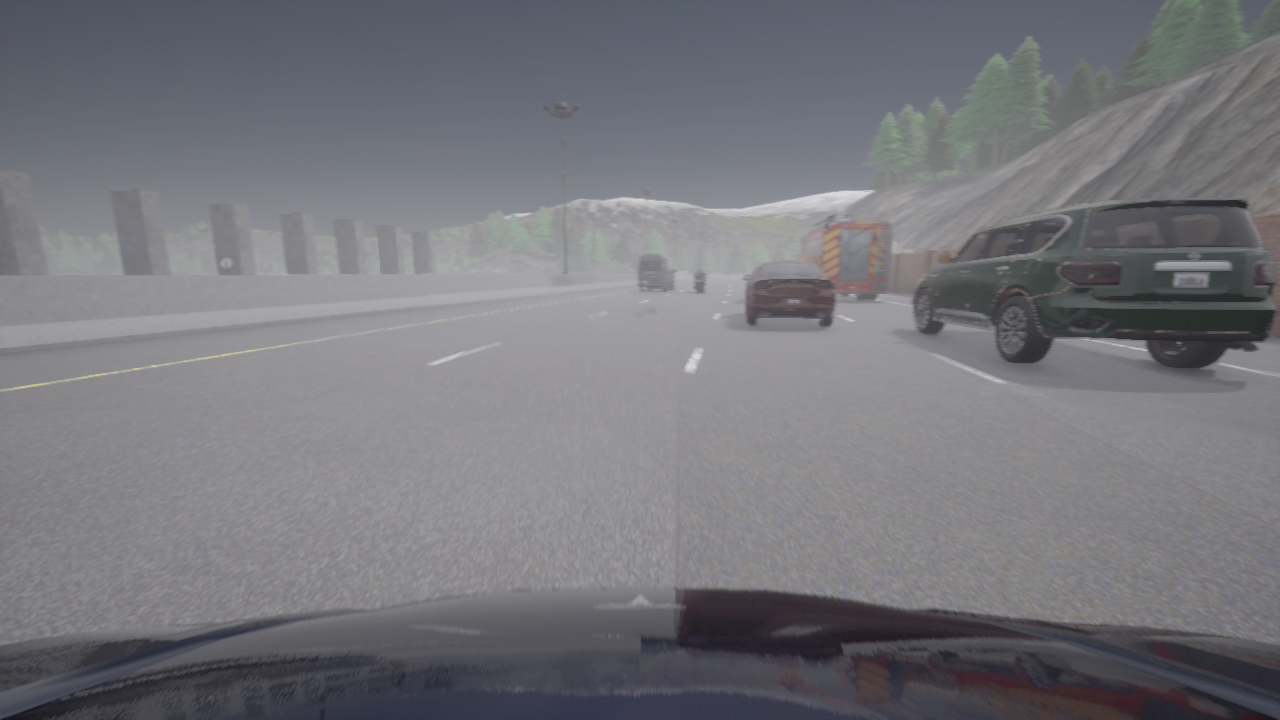cyclist: (0, 588, 1279, 719), (912, 198, 1277, 369), (791, 211, 891, 300), (744, 261, 834, 326), (637, 254, 675, 291), (747, 267, 758, 286), (696, 274, 706, 292)
